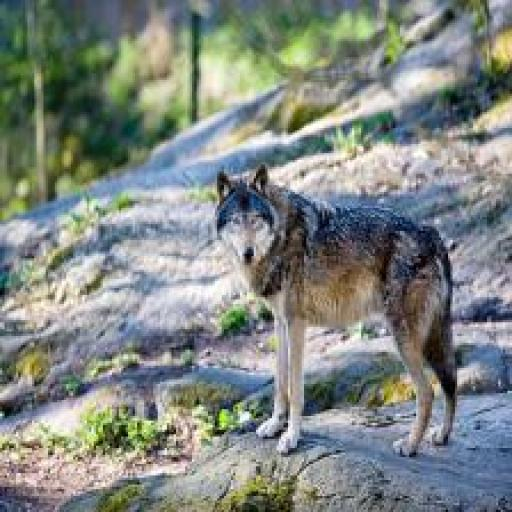wolf: (199, 162, 484, 497)
